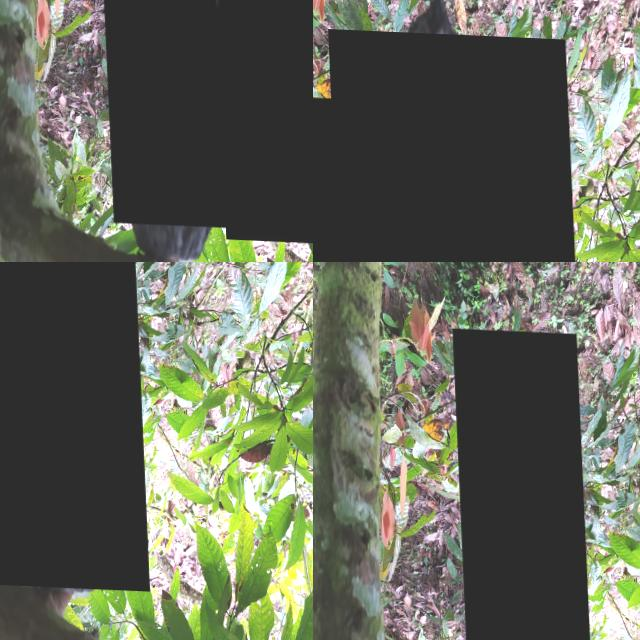Fitoftora: (0, 262, 145, 588), (451, 326, 590, 640), (313, 93, 379, 262)
Monilia: (326, 26, 572, 262), (95, 0, 237, 225), (213, 0, 313, 240)
